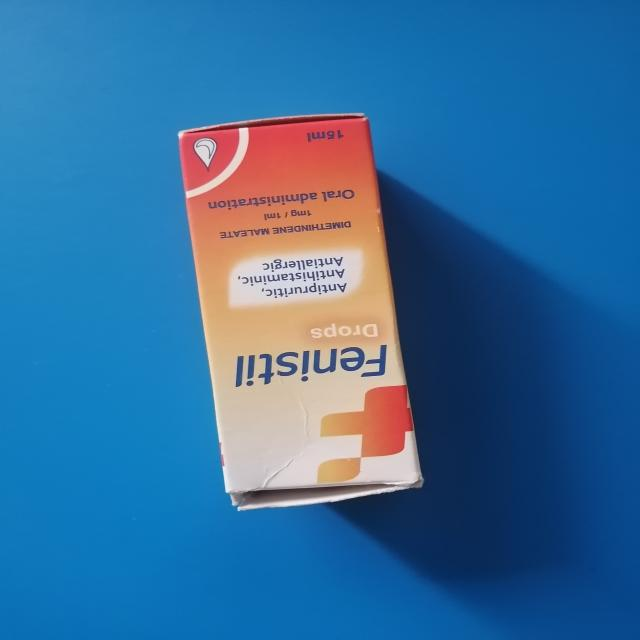Medicine: (171, 103, 426, 520)
